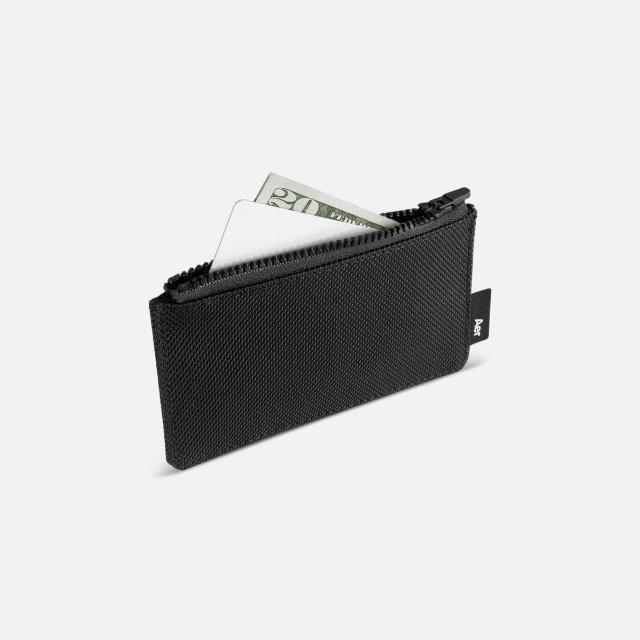wallet: (143, 187, 474, 473)
